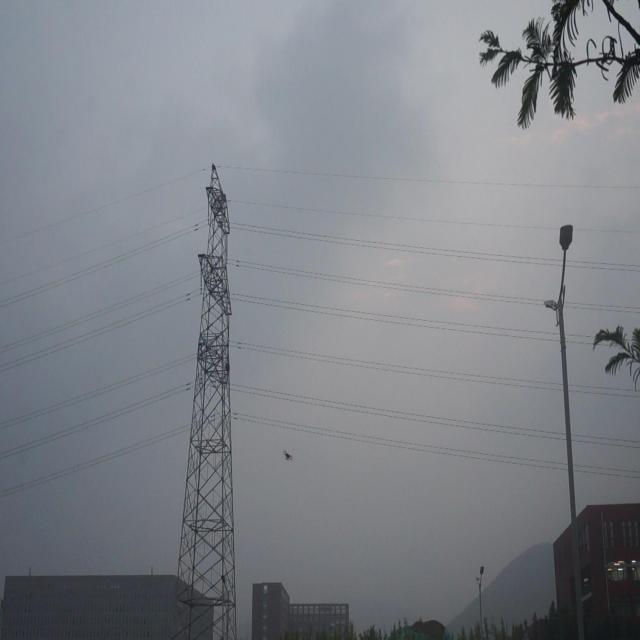UAV: (282, 448, 293, 462)
